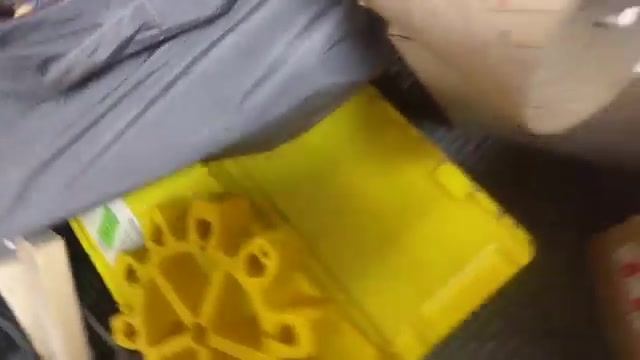gear: (79, 181, 340, 360)
